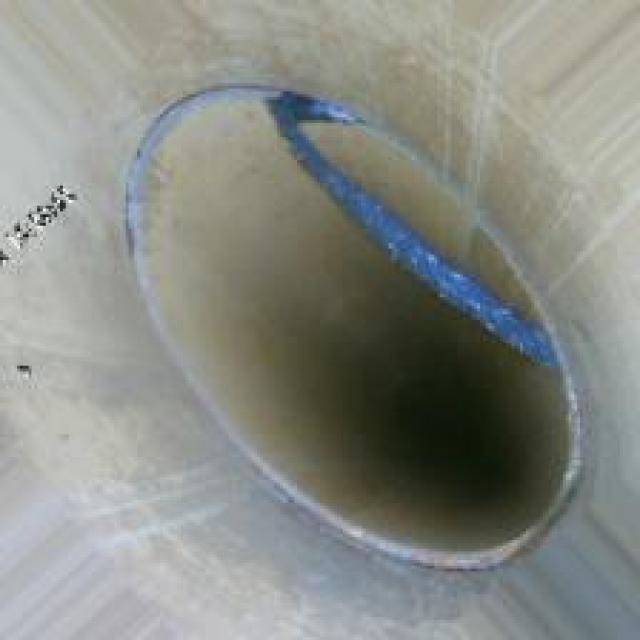joint: (103, 66, 591, 574)
